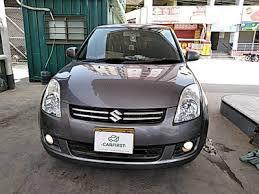Hatchback: (39, 23, 209, 168)
